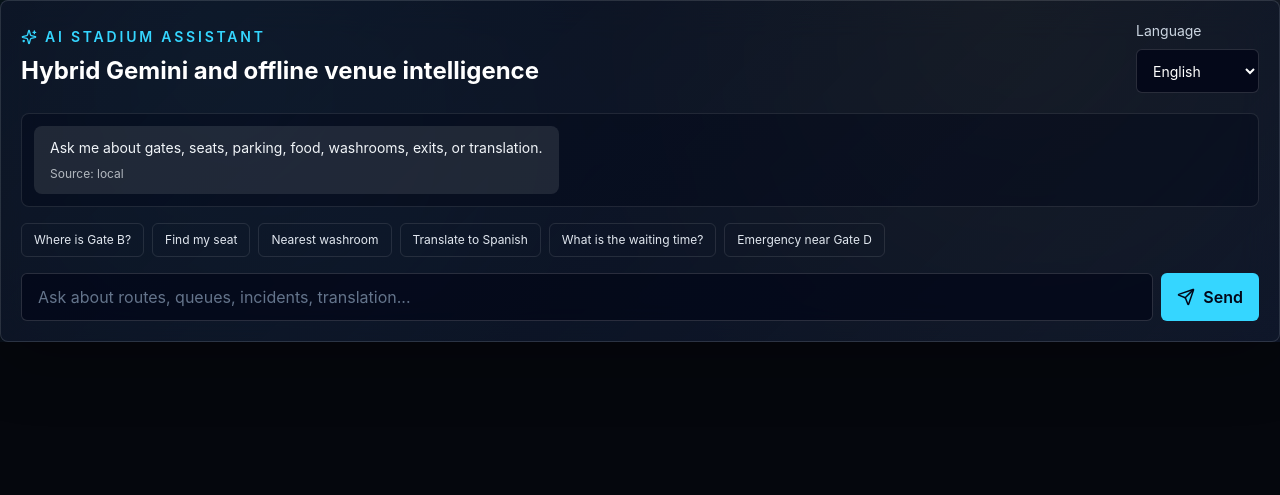
it: AIAssistant › accepts typed prompts and clears the input after submit
Type "Nearest washroom" into the field named "Ask ArenaMind".
click(587, 297); type("Nearest washroom")  # box [21,273,1153,321]
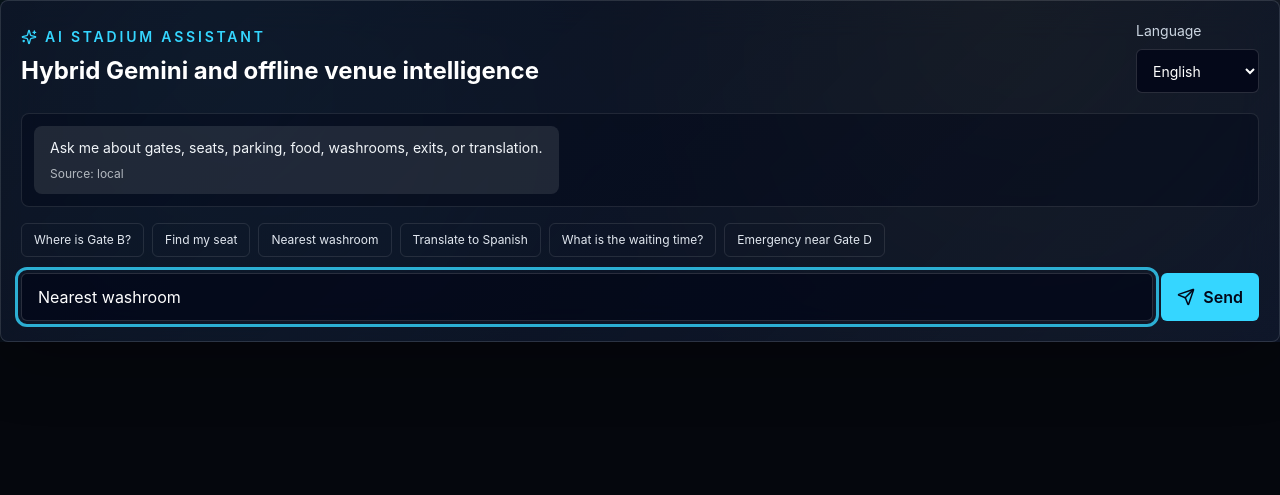
Click the button "Send".
click(1210, 297)  # box [1161,273,1259,321]
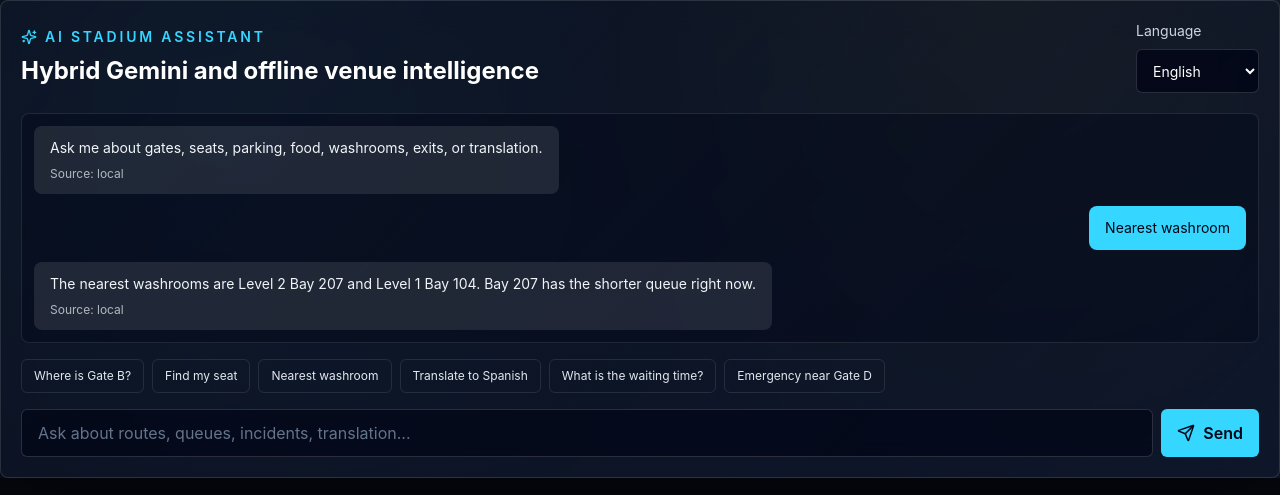
Expected: the text "Bay 207" is shown, [50,275,756,292]
Expected: the field named "Ask ArenaMind" is empty, [21,409,1153,457]
